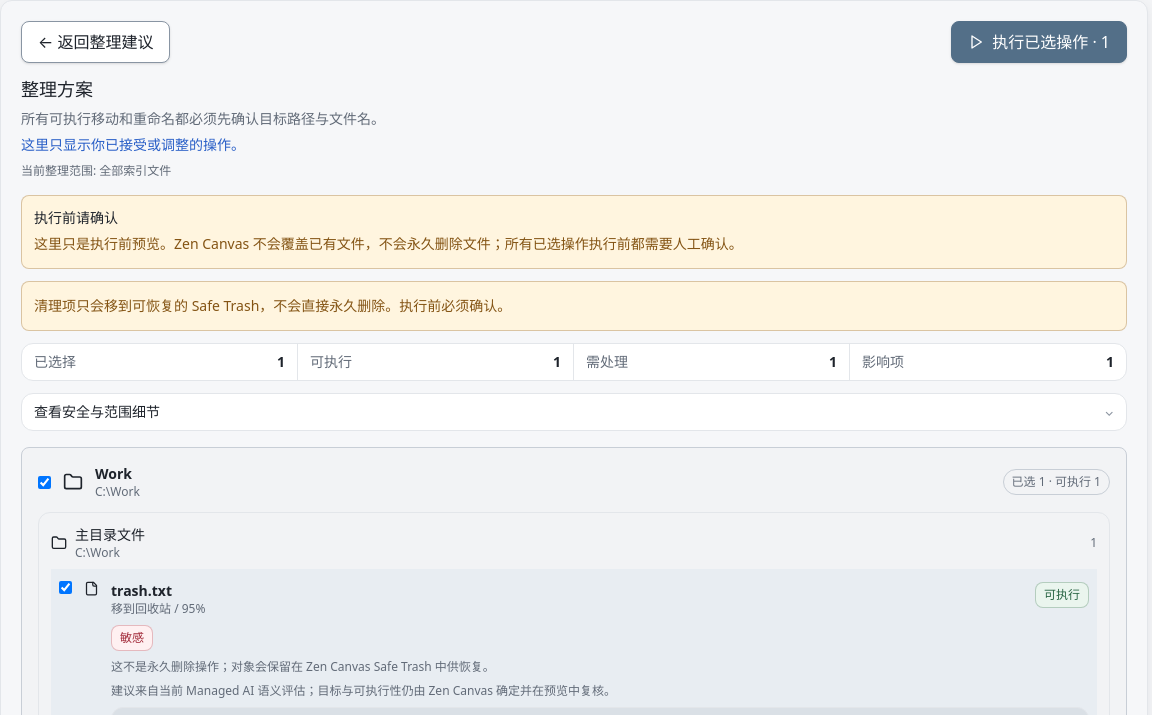
Test: organize v4.2.1 component interactions › renders the trash-priority confirmation with real dialog semantics
Click the button "执行已选操作 · 1": {"x": 1039, "y": 42} x1=951 y1=21 x2=1127 y2=63
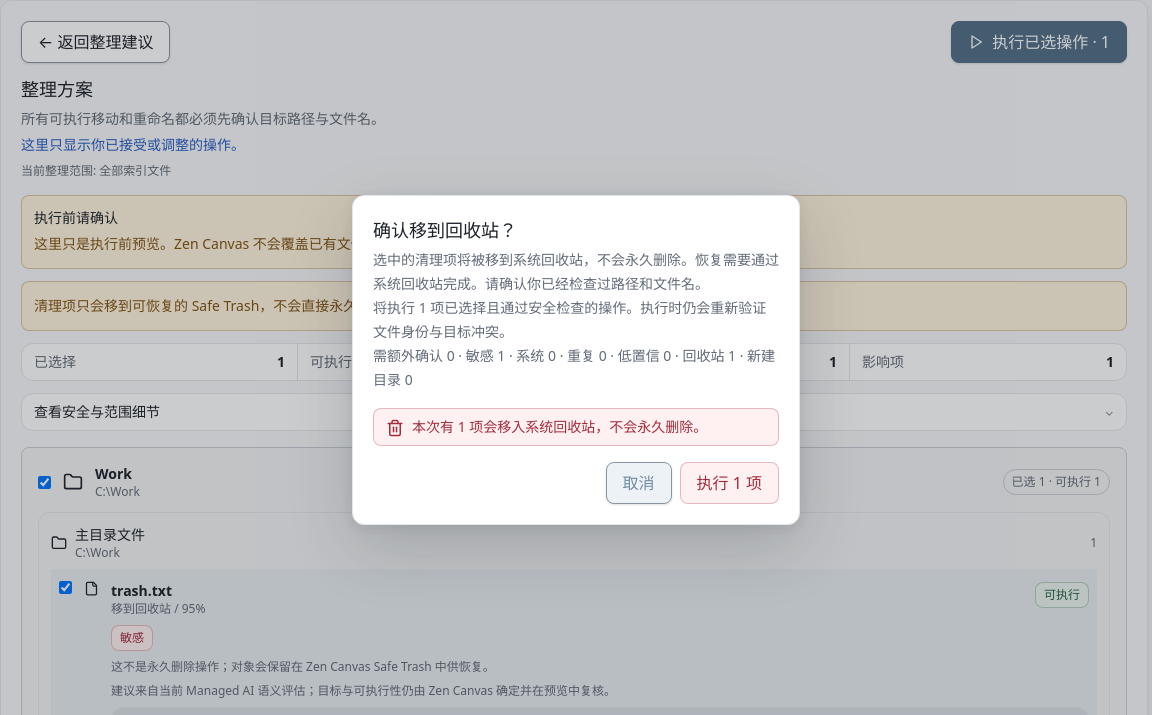
Check: the dialog shows "确认移到回收站", box x1=373 y1=218 x2=517 y2=242
Check: the dialog shows "1", box x1=373 y1=250 x2=779 y2=389
